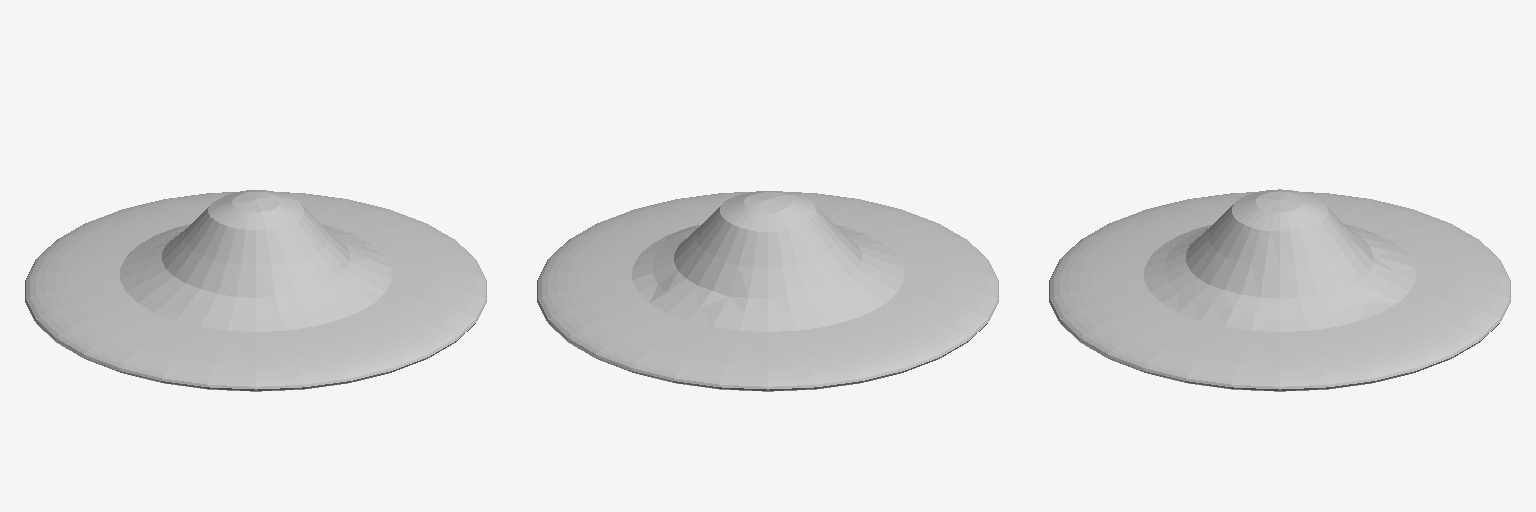
Rendered from UFO.obj.
3 renders of one model, left to right at view 1: azimuth 30°, elevation 25°; view 2: azimuth 150°, elevation 25°; view 3: azimuth 270°, elevation 25°, orthographic.
Bounding box in the file's own units: 40 × 10.72 × 39.78.